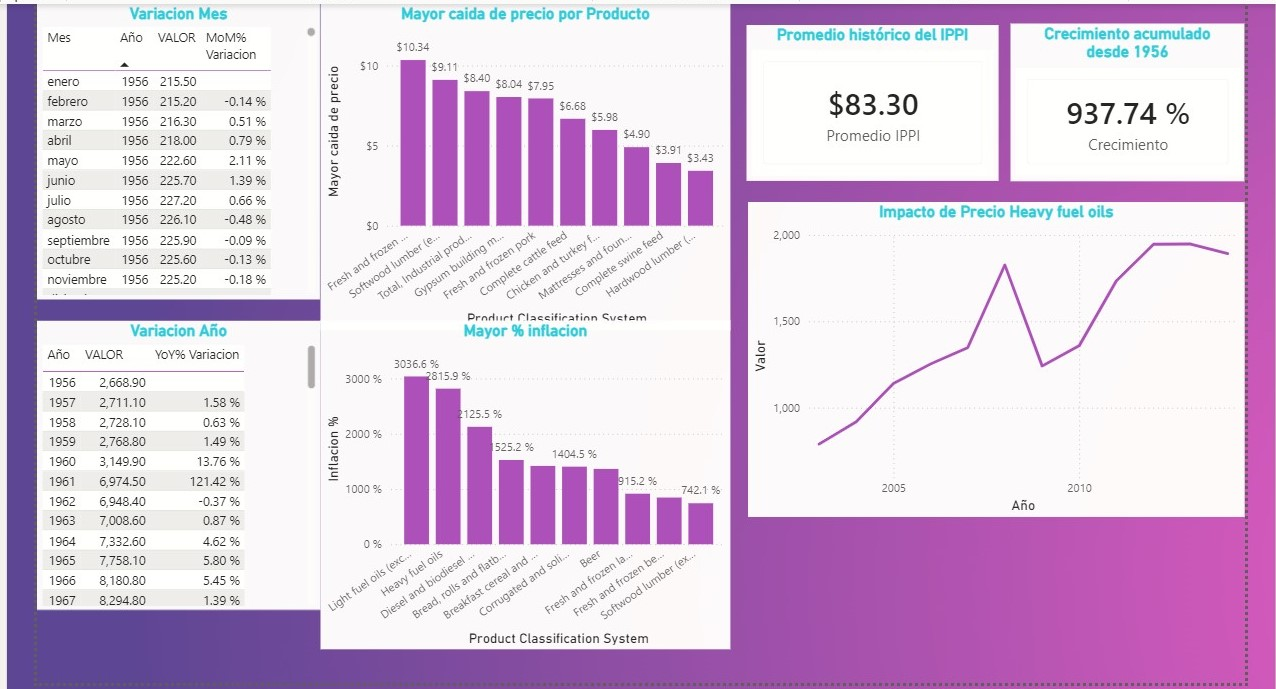

This screenshot's page, from the dashboard's own definition file:
{"tool":"powerbi","page":{"name":"Página 1","canvas":[1280,720],"ordinal":0},"visuals":[{"type":"tableEx","title":"Variacion Mes","fields":{"Values":["IPPI.REF_DATE.Variación.Jerarquía de fechas.Mes","IPPI.REF_DATE.Variación.Jerarquía de fechas.Año","Sum(IPPI.VALUE)","INDICADORES.MoM% de Suma de VALUE"]},"box":[0,0,300.3,313.2],"z":0},{"type":"tableEx","title":"Variacion Año","fields":{"Values":["IPPI.REF_DATE.Variación.Jerarquía de fechas.Año","Sum(IPPI.VALUE)","INDICADORES.YoY% de Suma de VALUE"]},"box":[0,335.6,300.6,307],"z":1000},{"type":"cardVisual","title":"Promedio histórico del IPPI","fields":{"Data":["INDICADORES.Promedio IPPI"]},"box":[752.4,22.3,267.2,165.4],"z":2000},{"type":"clusteredColumnChart","title":"Mayor caida de precio por Producto","fields":{"Y":["INDICADORES.Mayor caida de precio"],"Category":["IPPI.Product Classification System"]},"box":[300.3,0,435,345.7],"z":3000},{"type":"clusteredColumnChart","title":"Mayor % inflacion","fields":{"Category":["IPPI.Product Classification System"],"Y":["INDICADORES.Inflacion %"]},"box":[300.3,336,435,348.9],"z":4000},{"type":"cardVisual","title":"Crecimiento acumulado desde 1956","fields":{"Data":["INDICADORES.Crecimiento"]},"box":[1032.3,20.7,248.1,167],"z":5000},{"type":"lineChart","title":"Impacto de Precio Heavy fuel oils","fields":{"Category":["IPPI.REF_DATE.Variación.Jerarquía de fechas.Año"],"Y":["Sum(IPPI.VALUE)"]},"box":[753.9,210,526.5,334],"z":6000}]}

Visuals, with their boxes in screenshot pixels (x1, y1, x2, y2):
"Variacion Mes" tableEx: 33, 0, 316, 295
"Variacion Año" tableEx: 33, 316, 316, 605
"Promedio histórico del IPPI" cardVisual: 742, 21, 994, 177
"Mayor caida de precio por Producto" clusteredColumnChart: 316, 0, 726, 326
"Mayor % inflacion" clusteredColumnChart: 316, 317, 726, 645
"Crecimiento acumulado desde 1956" cardVisual: 1006, 20, 1240, 177
"Impacto de Precio Heavy fuel oils" lineChart: 744, 198, 1240, 513
